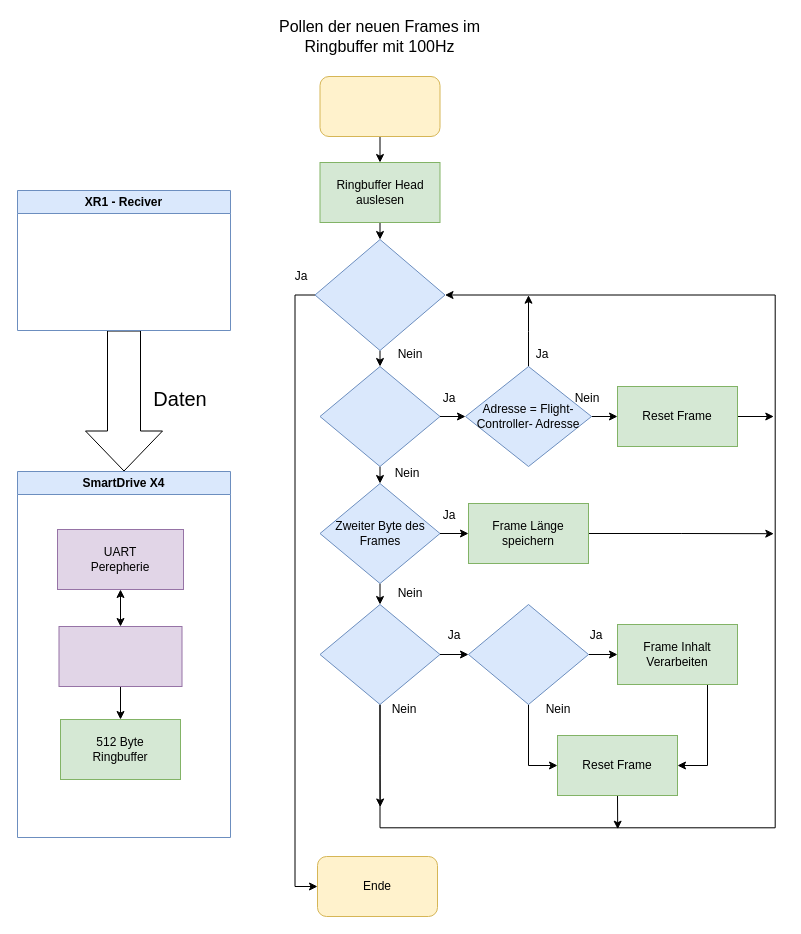
This 801x934 diagram has some shape labels left out. The shapes that lost their labels are listed below. From the top down, each one's centre as x and y in pixels, then its label:
At (x=379, y=106): "Start".
At (x=379, y=294): "Ringbuffer zwischen Head und Tail auslesen".
At (x=379, y=416): "Erster Byte des Frames".
At (x=120, y=656): "DMA".
At (x=379, y=654): "Am Frame Ende?".
At (x=528, y=654): "CRC Richtig".
